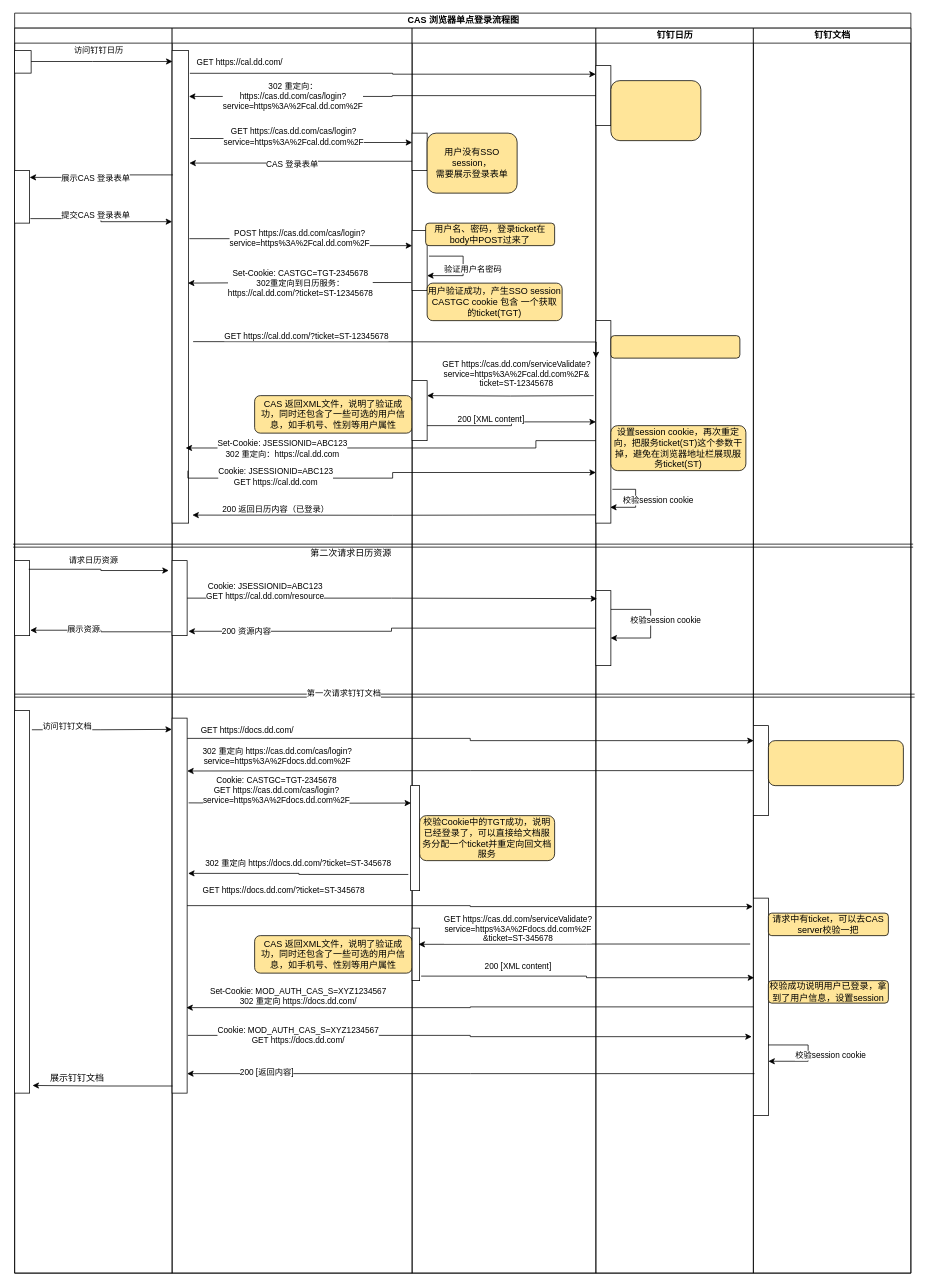
This 928x1286 diagram has some shape labels left out. The box of each missing label's shape, as (x1, y1, x2, y2) in pixels:
发现未授权，需要转发给CAS鉴权。将请求的url encode之后作为service参数: (610, 80, 701, 141)
未授权，重定向到CAS server: (768, 740, 903, 786)
浏览器: (171, 27, 412, 1273)
用户: (14, 27, 172, 1273)
钉钉 CAS server: (411, 27, 596, 1273)
钉钉日历https请求CAS， 校验服务ticket(ST): (610, 335, 740, 358)
